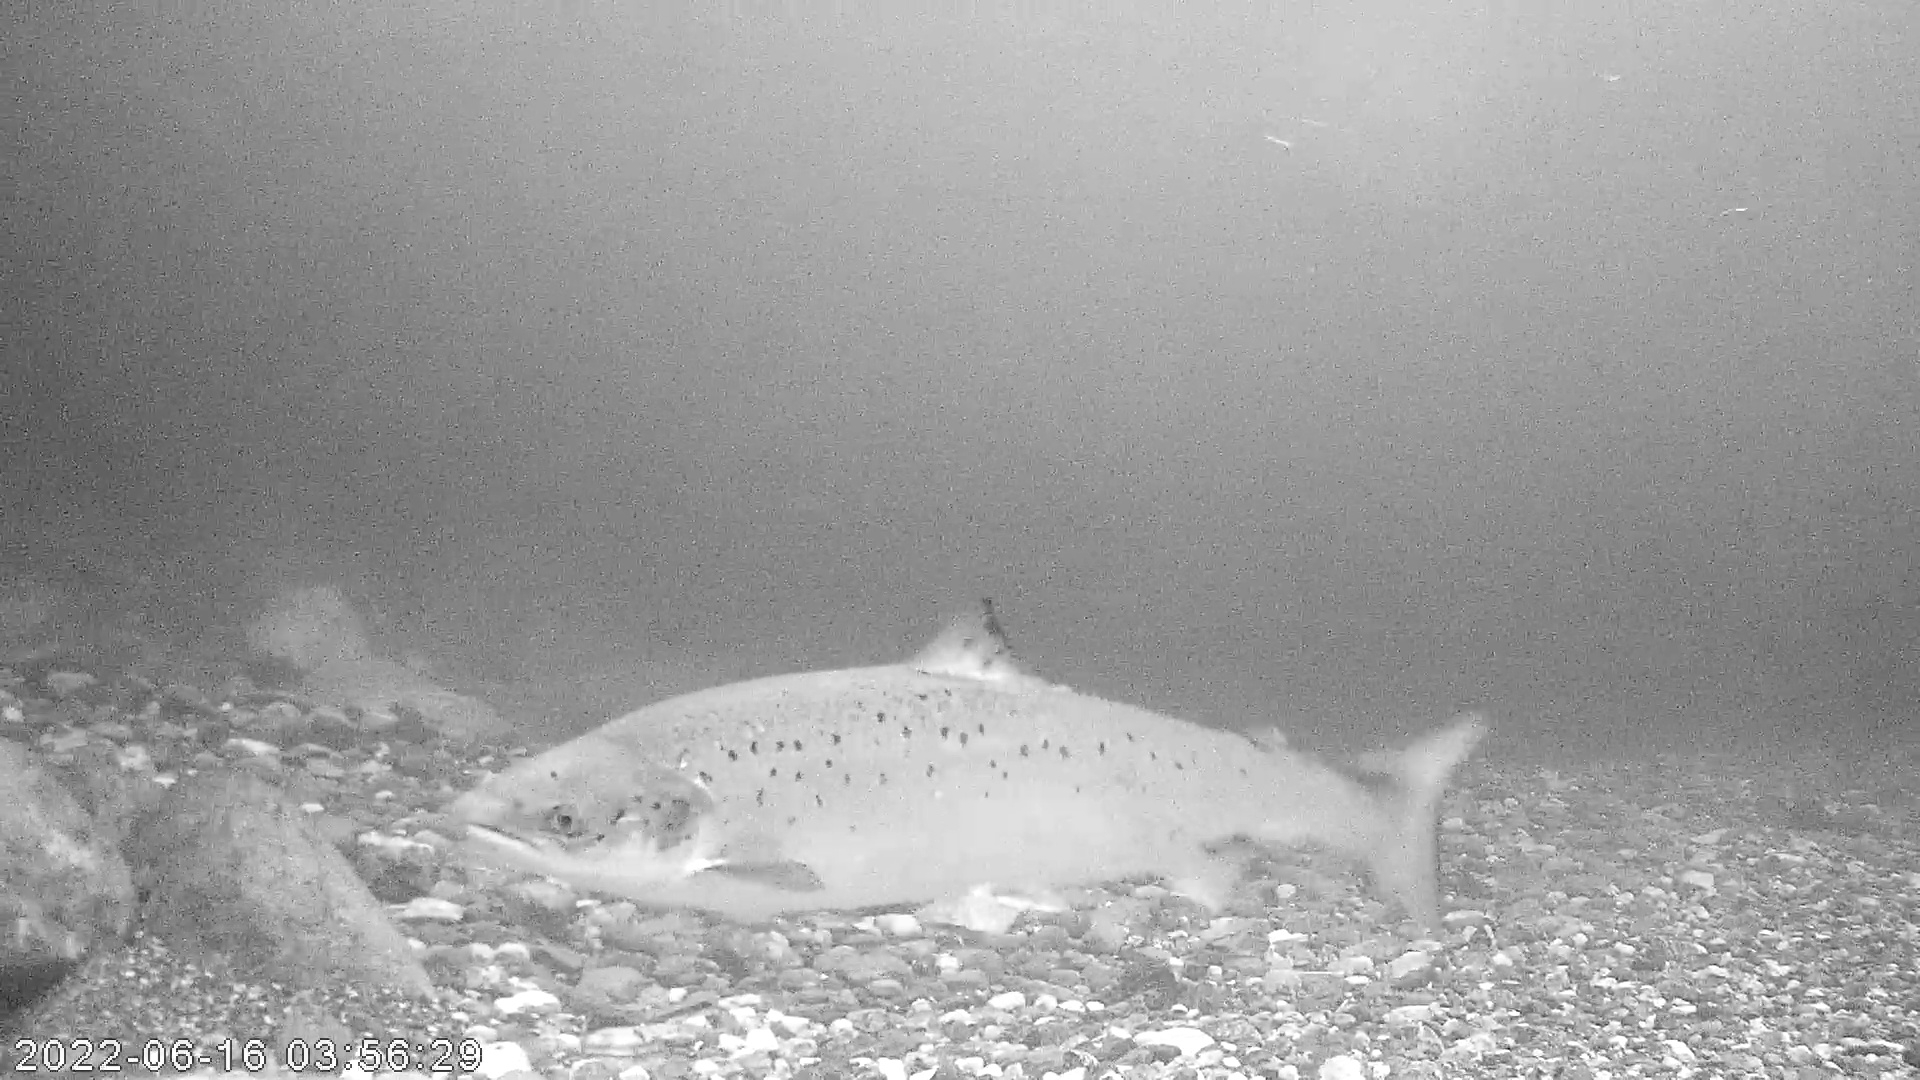salmon: (446, 593, 1491, 934)
